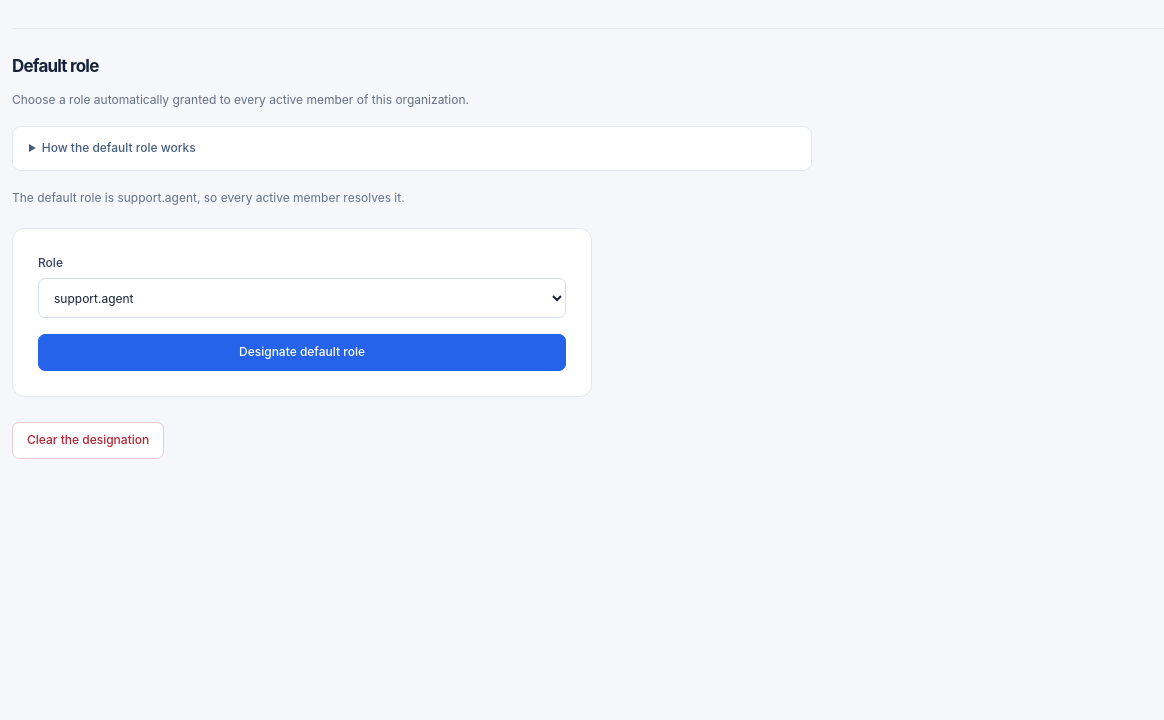
Test case: the default role of one organization › reads the designation off is_default and PUTs a MOVE with no key
The image size is (1164, 720).
Select "billing.admin" in the dropdown with id "org-default-role": (302, 298) [38,278,566,318]
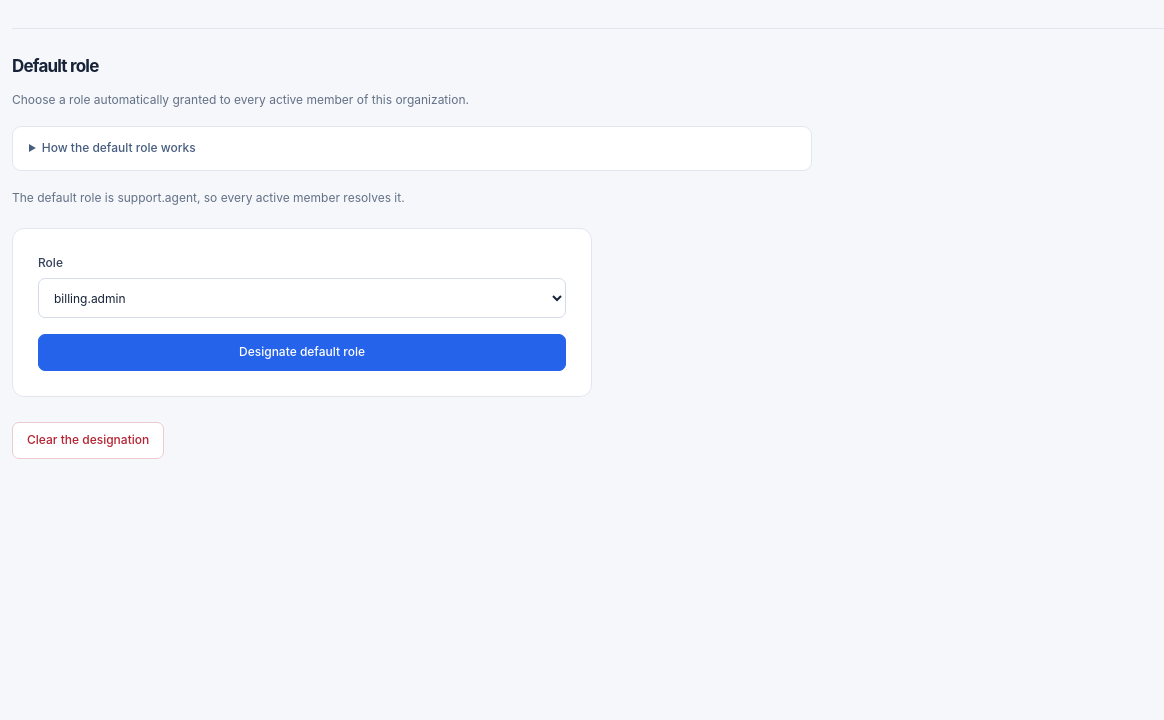
Click the button "Designate default role": click(302, 353) [38,334,566,371]
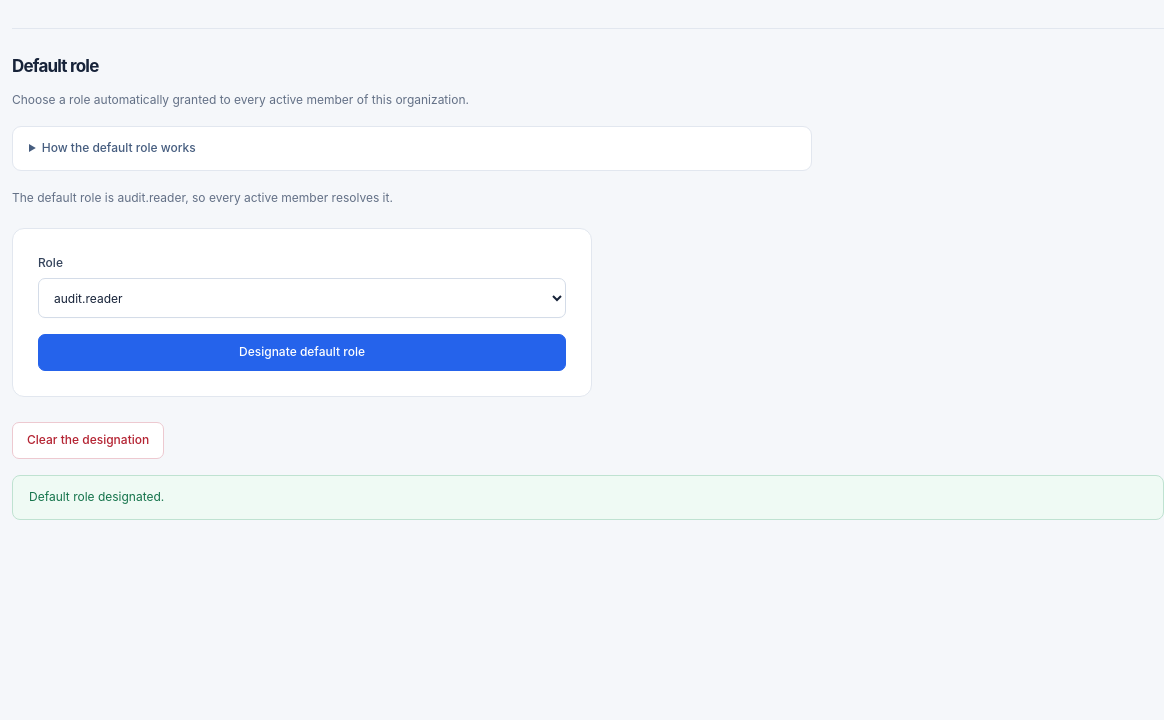
Check: the text "Default role designated." is shown, box [12,475,1163,520]
Check: the text "The default role is audit.reader" is shown, box [12,190,393,205]
Check: the dropdown with id "org-default-role" shows "audit.reader", box [38,278,566,318]
